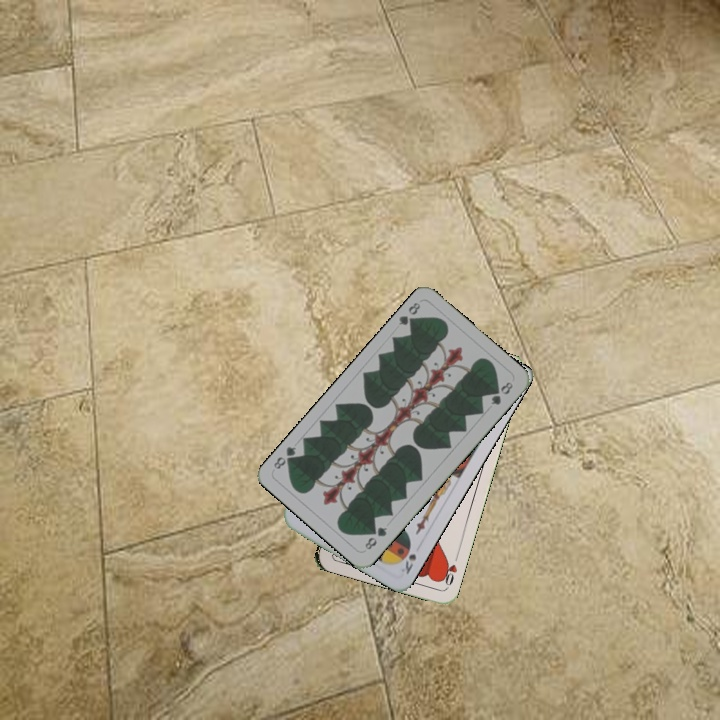G8: (394, 298, 423, 330), (361, 523, 390, 552)
HO: (437, 550, 461, 590)
SK: (397, 550, 419, 577)
